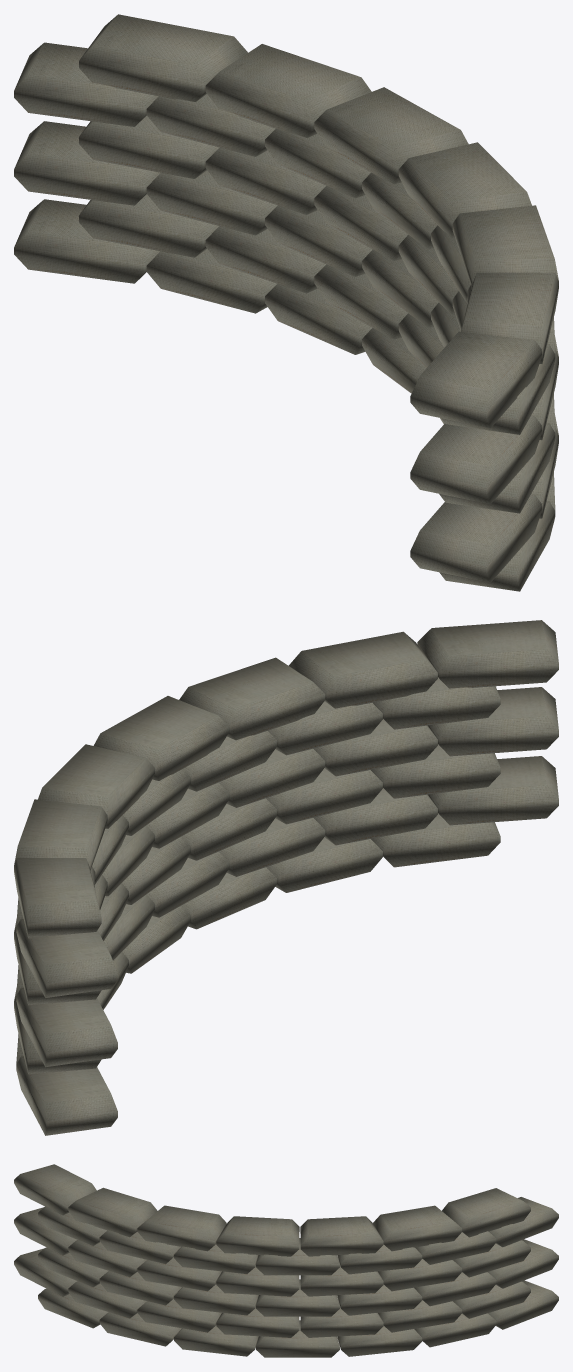
File: SandbagWall_02.fbx
The picture shows the model from 3 angles, top to bottom: view 1: azimuth 30°, elevation 25°; view 2: azimuth 150°, elevation 25°; view 3: azimuth 270°, elevation 25°; orthographic projection. The views are drawn at different scales.
Parts seen in each view (by area): view 1: Box001; view 2: Box001; view 3: Box001.
Part boxes in pixels (bbox=[...]): Box001: bbox=[14, 14, 558, 591]; Box001: bbox=[14, 620, 558, 1135]; Box001: bbox=[14, 1164, 558, 1357].
Bounding box in the file's own units: 48.63 × 36.08 × 146.
